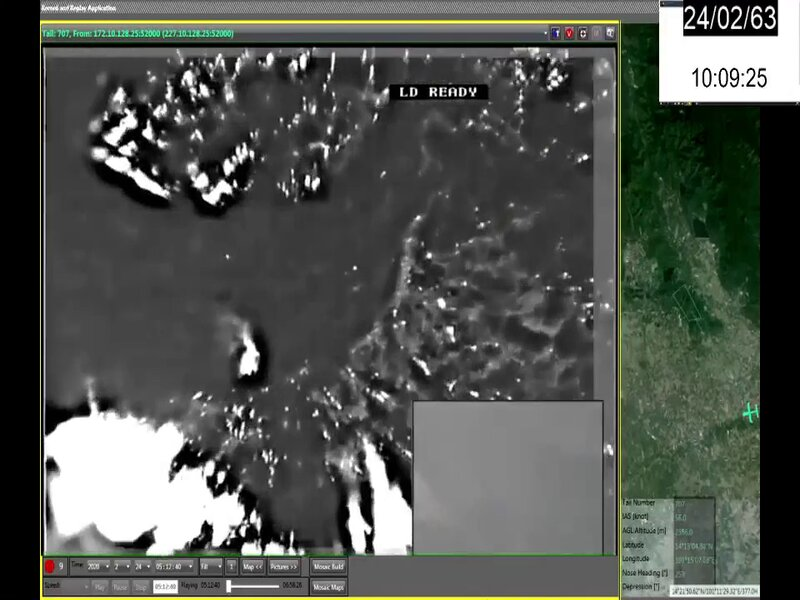Fire: (47, 413, 410, 554)
